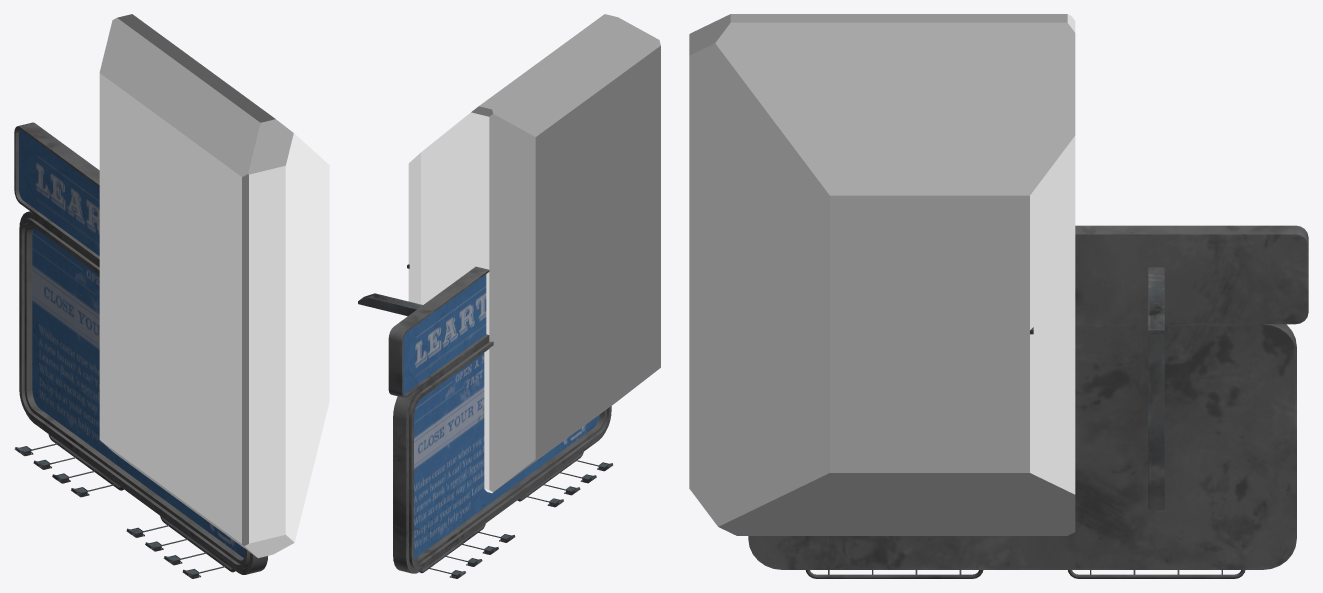
Rendered from SM_Billboard_10.fbx.
3 views of the same model, side by side, from view 1: azimuth 30°, elevation 25°; view 2: azimuth 150°, elevation 25°; view 3: azimuth 270°, elevation 25° (orthographic). The views are drawn at different scales.
Visible parts, largest first — view 1: SM_Billboard_10_ConvexHulls, SM_Billboard_10_LOD0; view 2: SM_Billboard_10_ConvexHulls, SM_Billboard_10_LOD0; view 3: SM_Billboard_10_ConvexHulls, SM_Billboard_10_LOD0.
Boxes of the visible parts, bbox=[...] form: SM_Billboard_10_ConvexHulls: bbox=[99, 14, 329, 558]; SM_Billboard_10_LOD0: bbox=[14, 122, 267, 578]; SM_Billboard_10_ConvexHulls: bbox=[408, 14, 660, 492]; SM_Billboard_10_LOD0: bbox=[358, 264, 612, 578]; SM_Billboard_10_ConvexHulls: bbox=[689, 14, 1075, 535]; SM_Billboard_10_LOD0: bbox=[748, 225, 1308, 578].
Size of the model in its own units: 450 by 1418 by 1418.
